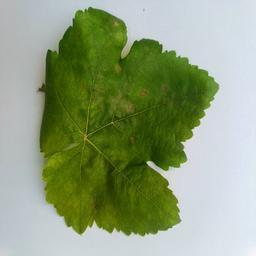Powdery-Mildew: (102, 91, 139, 123), (47, 142, 71, 174), (72, 191, 94, 217), (103, 21, 124, 44), (134, 82, 151, 99), (103, 211, 119, 227)
